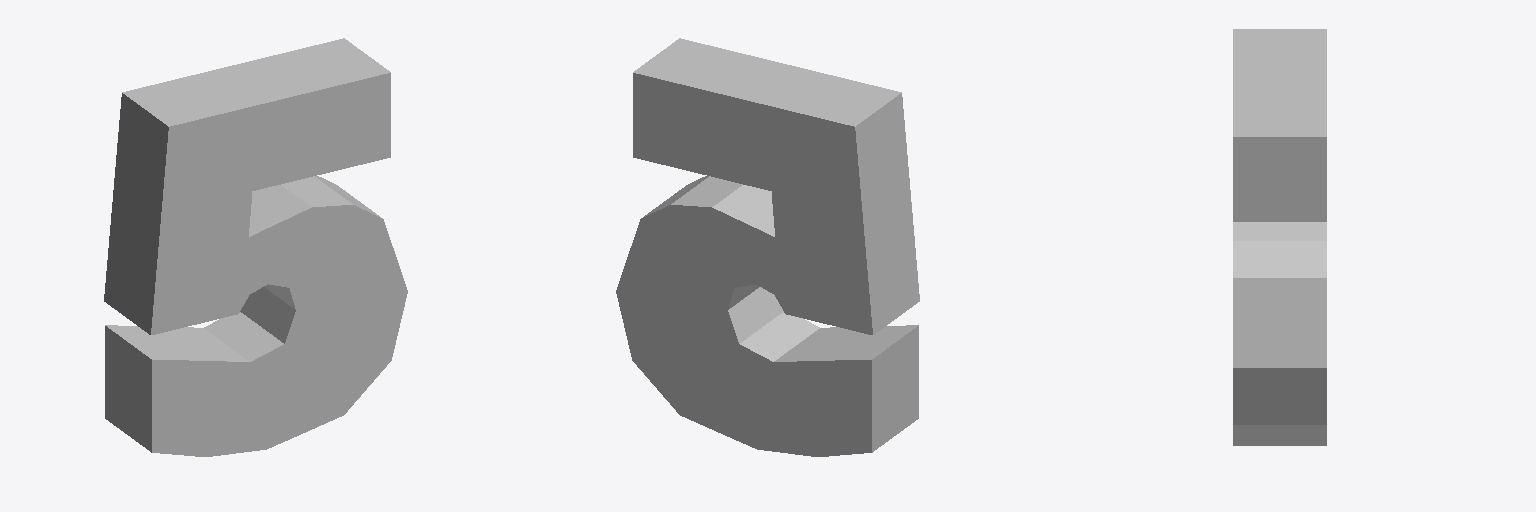
The picture shows the model from 3 angles: view 1: azimuth 30°, elevation 25°; view 2: azimuth 150°, elevation 25°; view 3: azimuth 270°, elevation 25°; orthographic projection.
Parts seen in each view (by area): view 1: text: ABCDEFGHIJKLMNOPQRSTUVWXYZ[number redacted]; view 2: text: ABCDEFGHIJKLMNOPQRSTUVWXYZ[number redacted]; view 3: text: ABCDEFGHIJKLMNOPQRSTUVWXYZ[number redacted].
Boxes of the visible parts, <box> form: text: ABCDEFGHIJKLMNOPQRSTUVWXYZ[number redacted]: <box>104,38,407,456</box>; text: ABCDEFGHIJKLMNOPQRSTUVWXYZ[number redacted]: <box>616,38,919,456</box>; text: ABCDEFGHIJKLMNOPQRSTUVWXYZ[number redacted]: <box>1233,29,1326,445</box>.
Bounding box in the file's own units: 79.05 × 102 × 25.